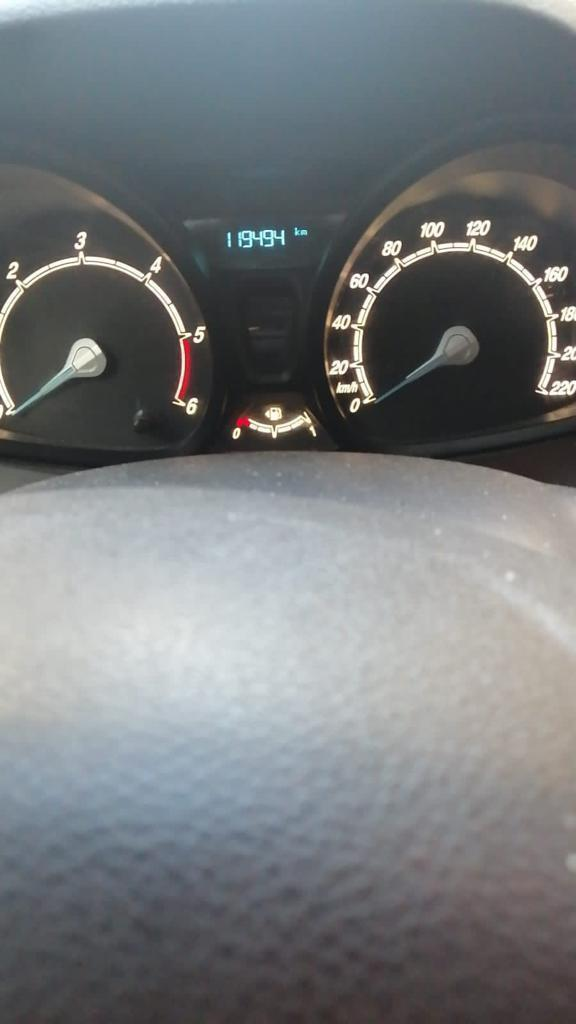1: (224, 230, 233, 248), (236, 230, 242, 248)
4: (273, 229, 285, 245), (252, 230, 262, 246)
9: (262, 229, 273, 247), (242, 229, 252, 248)
X: (293, 226, 300, 236), (300, 228, 307, 236)
odometer: (194, 218, 329, 268)
